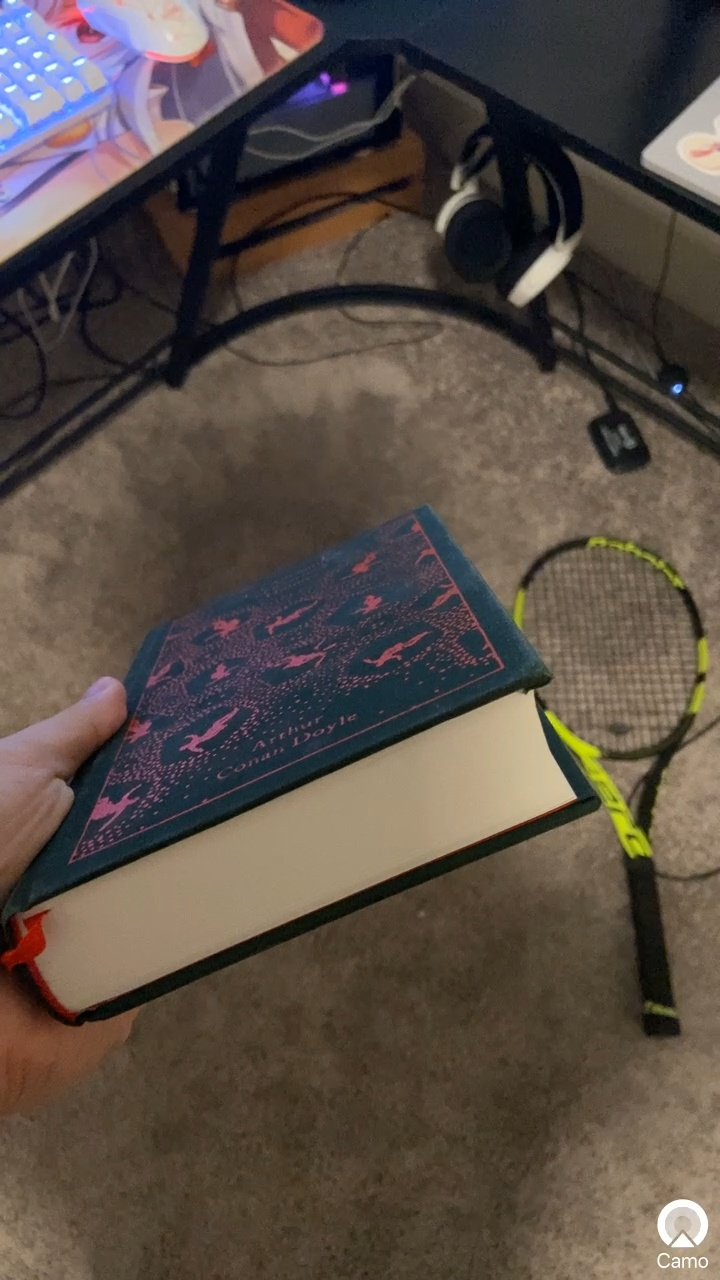Book: (1, 452, 598, 1055)
